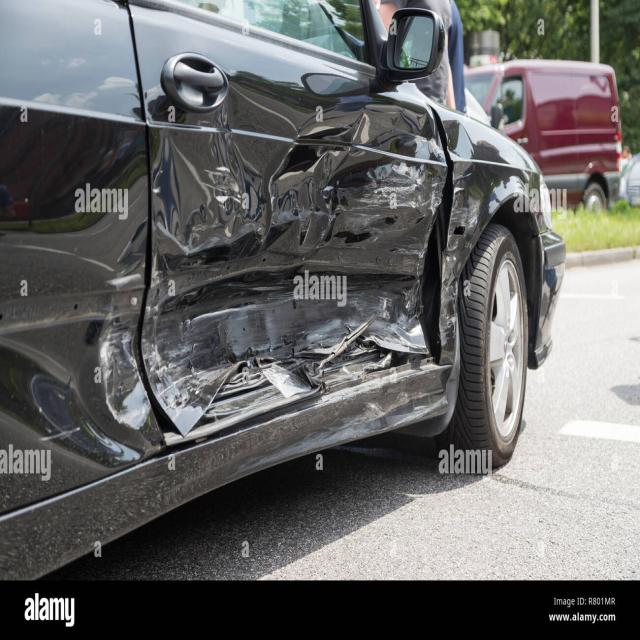crush: (77, 80, 487, 481)
